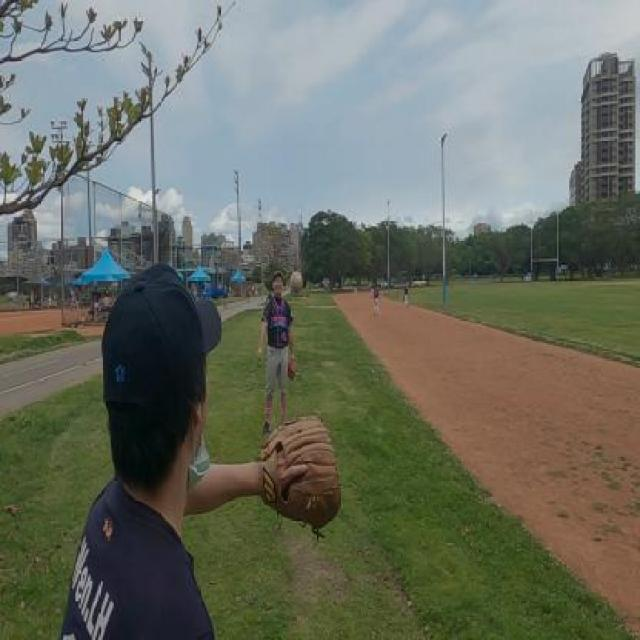baseball: (290, 272, 302, 294)
